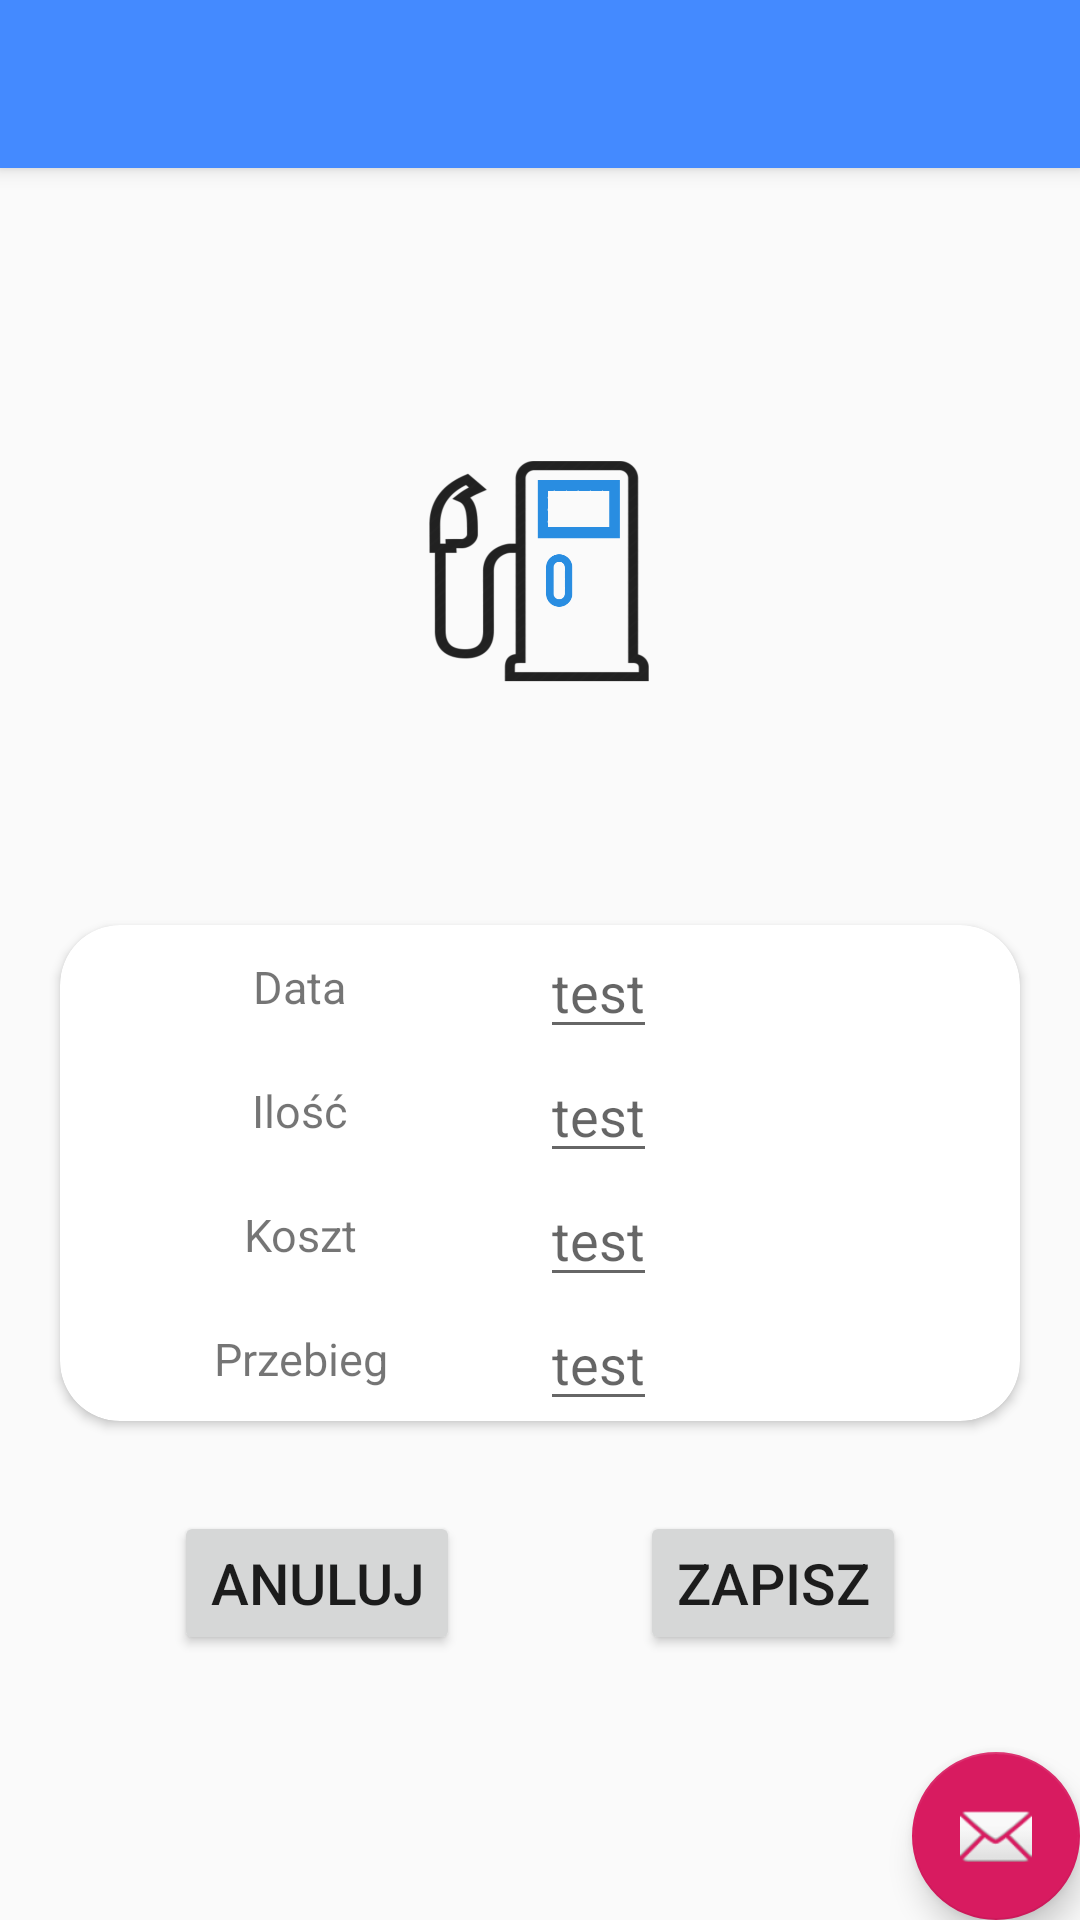

Where to tap for icons on this 1080w x 1920h app screen, as point (x, y):
email: point (996, 1836)
paliwo: point (539, 571)
